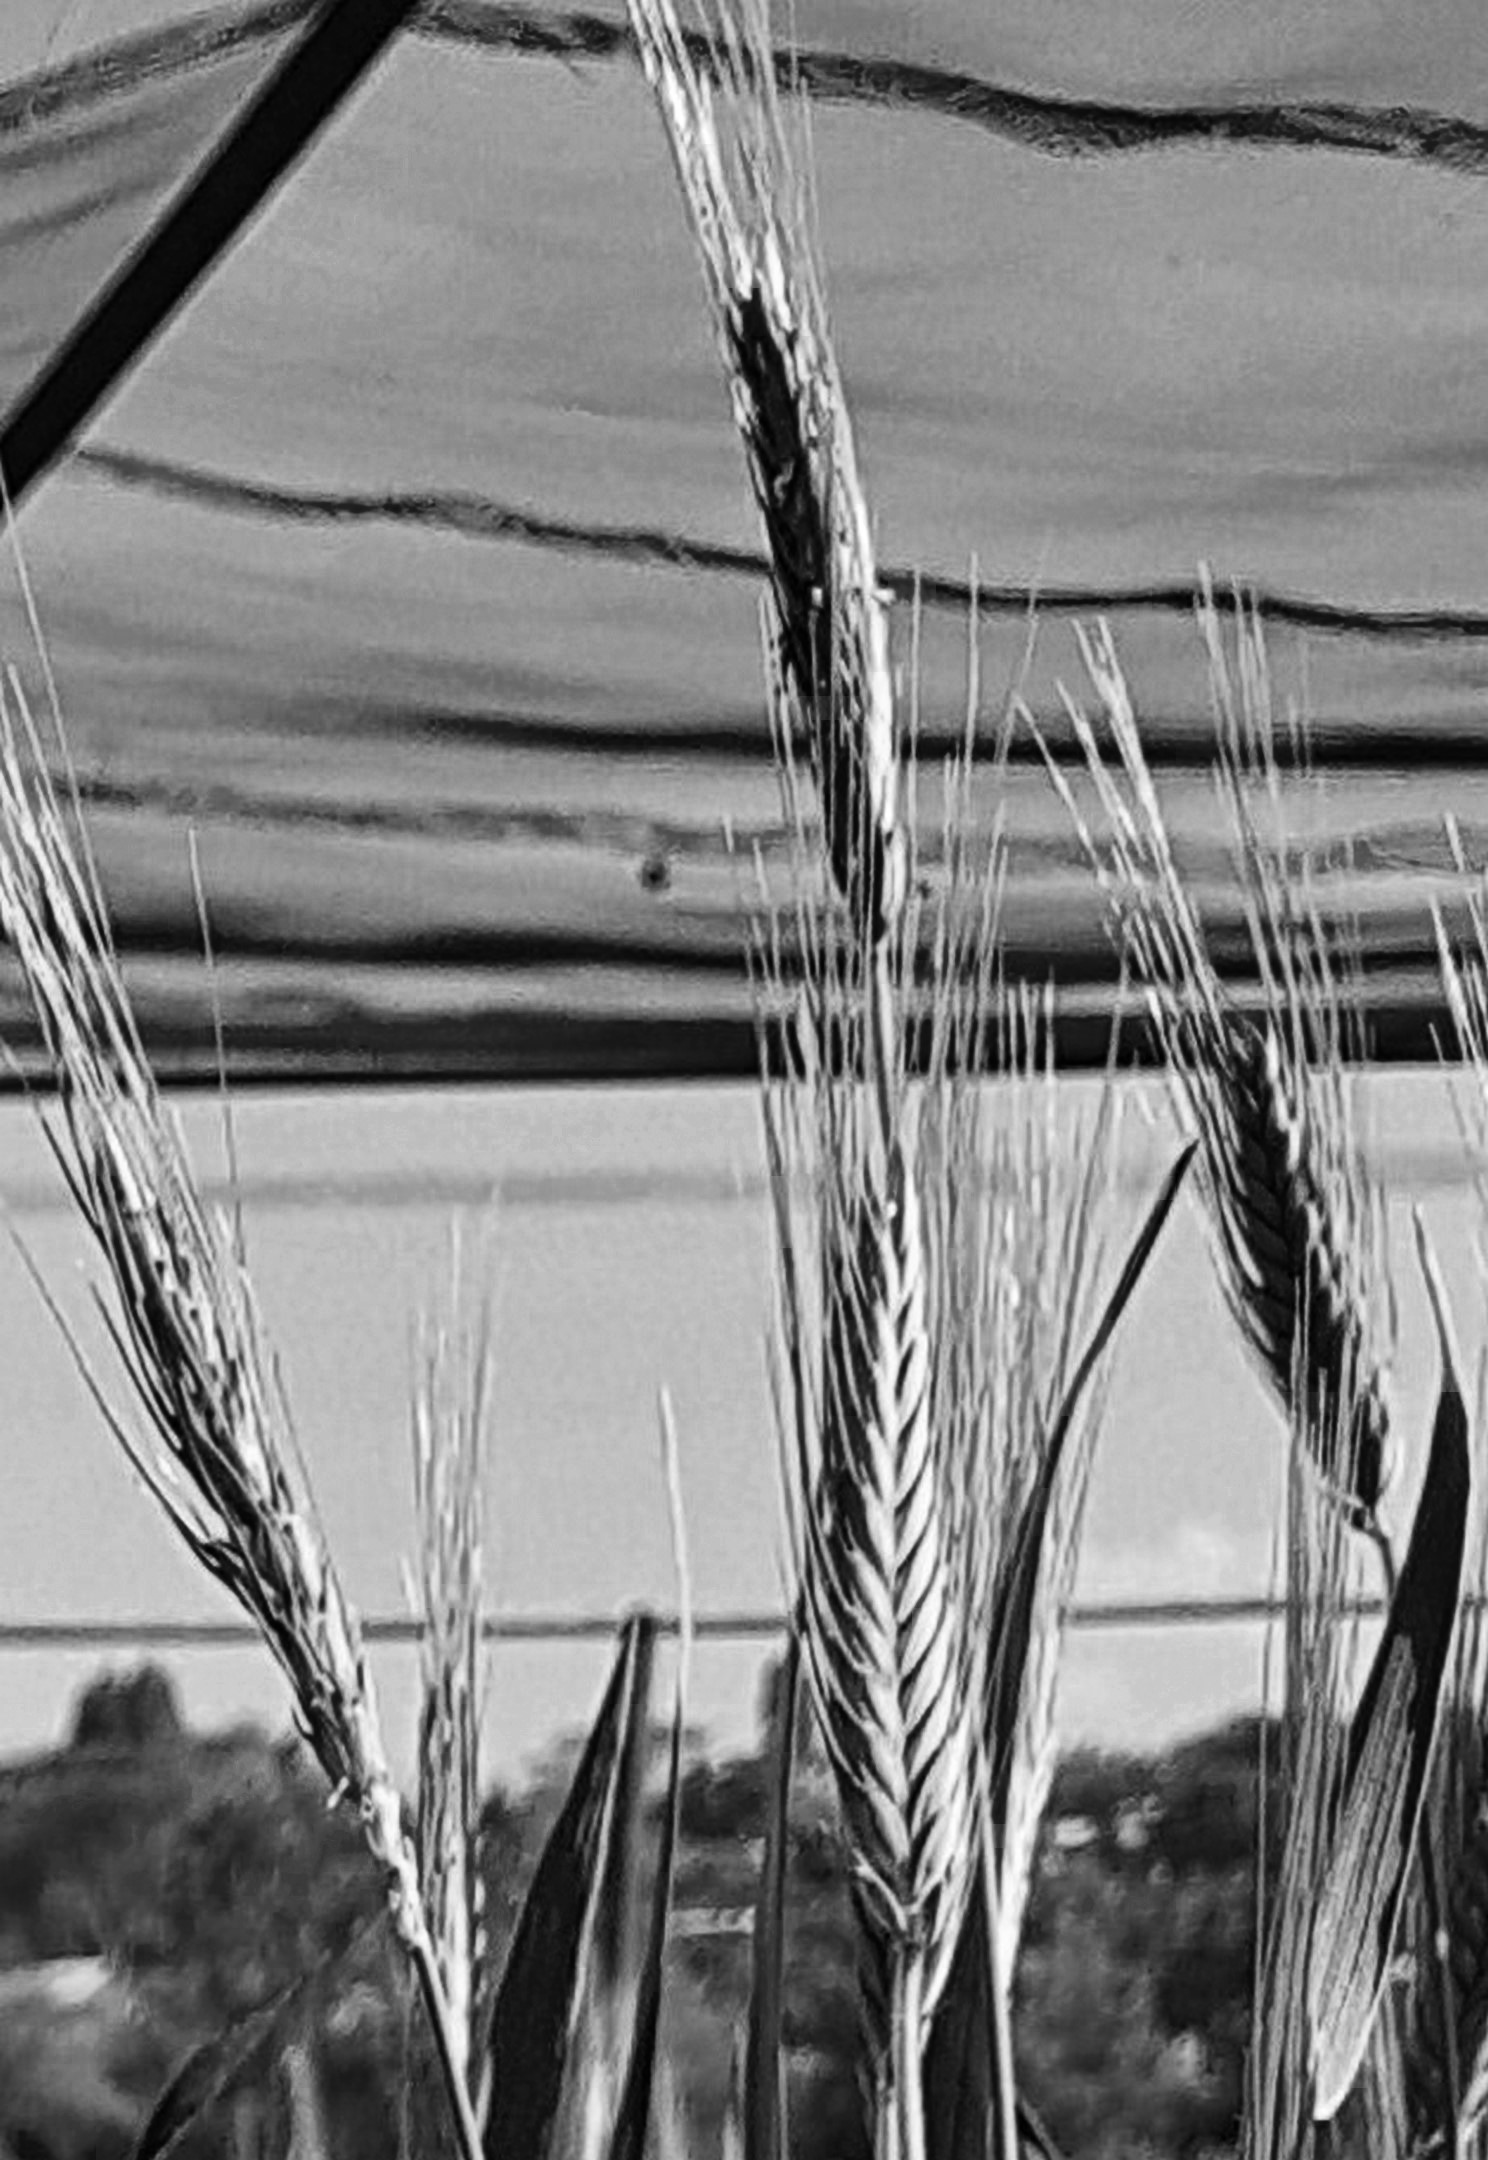Healthy Wheat: (778, 1156, 1035, 1912)
